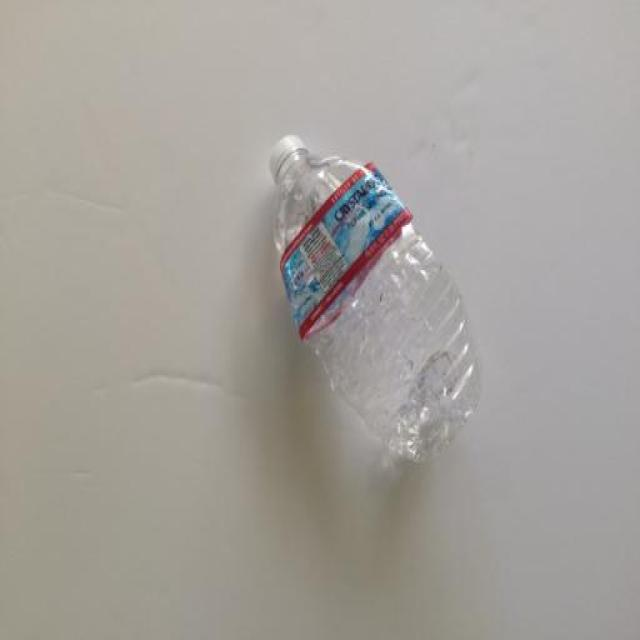Plastic: (269, 133, 482, 465)
